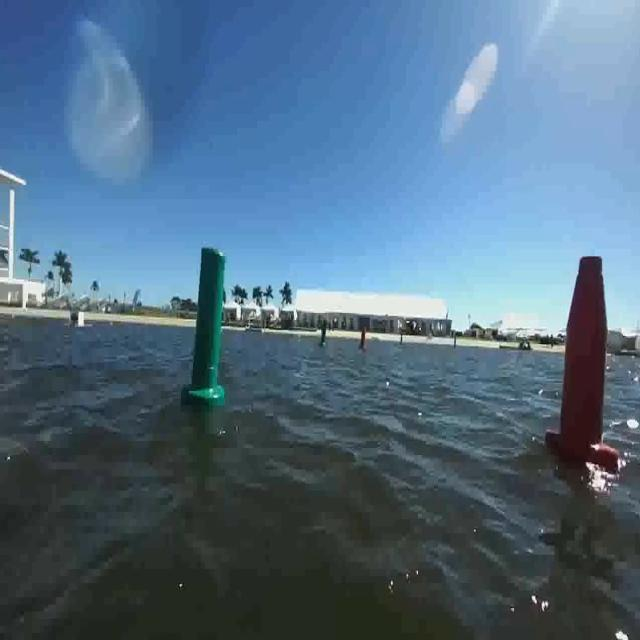green-column-buoy: (187, 245, 229, 410)
red-column-buoy: (546, 253, 619, 472)
